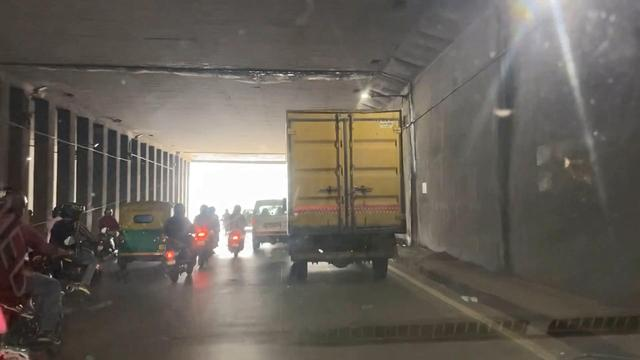HMV: (286, 106, 402, 277)
LMV: (161, 208, 190, 291), (194, 206, 222, 284), (229, 201, 247, 261)
